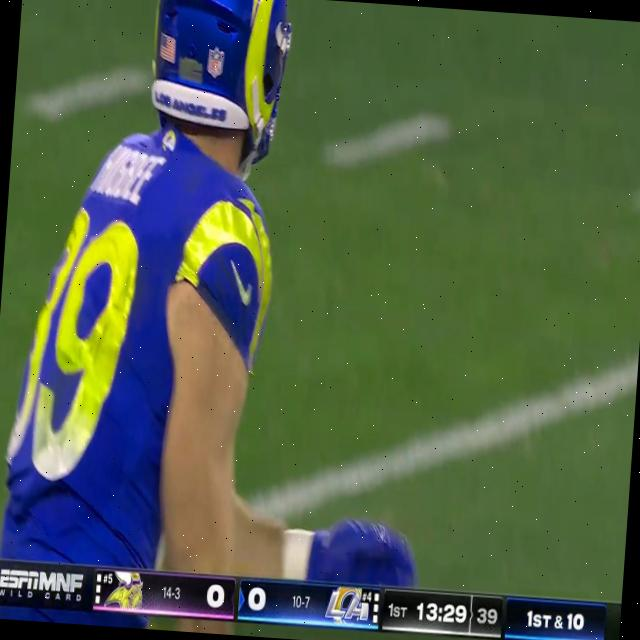Player: (0, 0, 309, 573)
